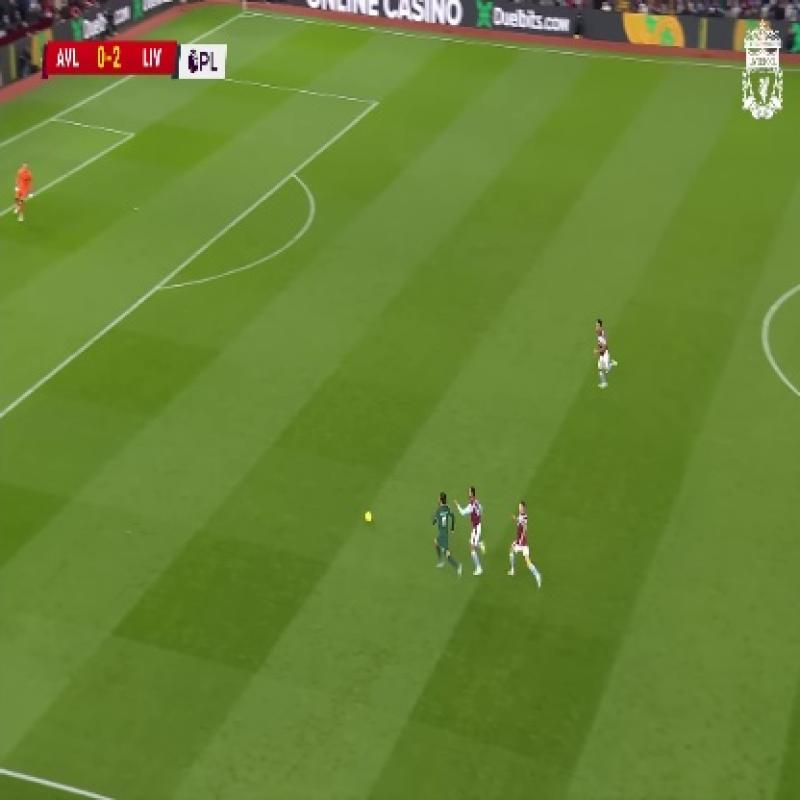1: (234, 2, 258, 21)
10: (282, 160, 300, 184)
11: (146, 271, 167, 298)
2: (43, 106, 62, 129)
3: (43, 106, 62, 129)
7: (122, 121, 140, 144)
9: (366, 88, 384, 114)
c: (744, 305, 790, 364)
